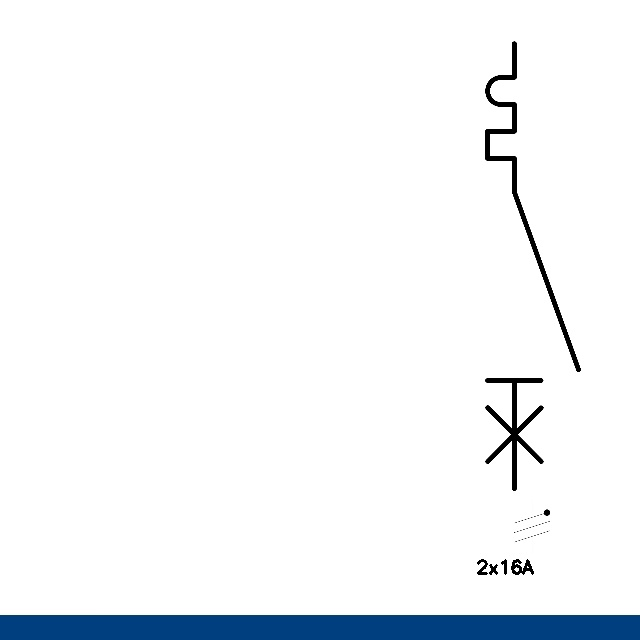interruptor_termomagnetico: (476, 32, 590, 500)
